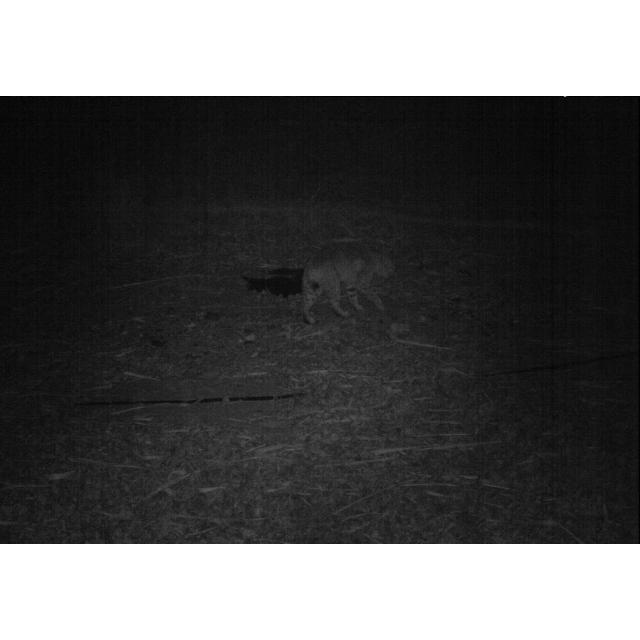animals: (302, 248, 396, 324)
